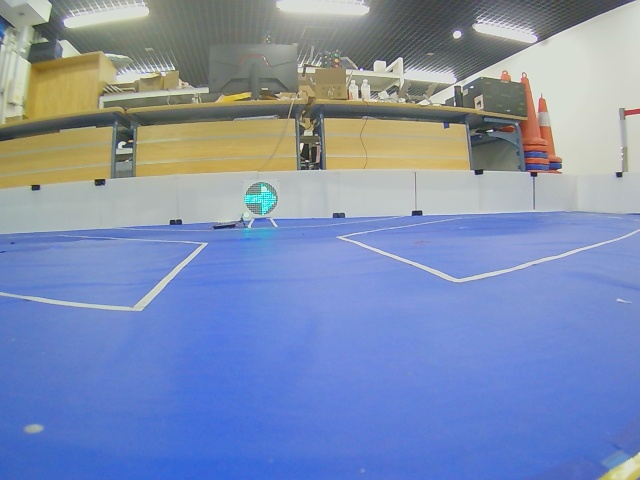right_green: (244, 182, 278, 215)
